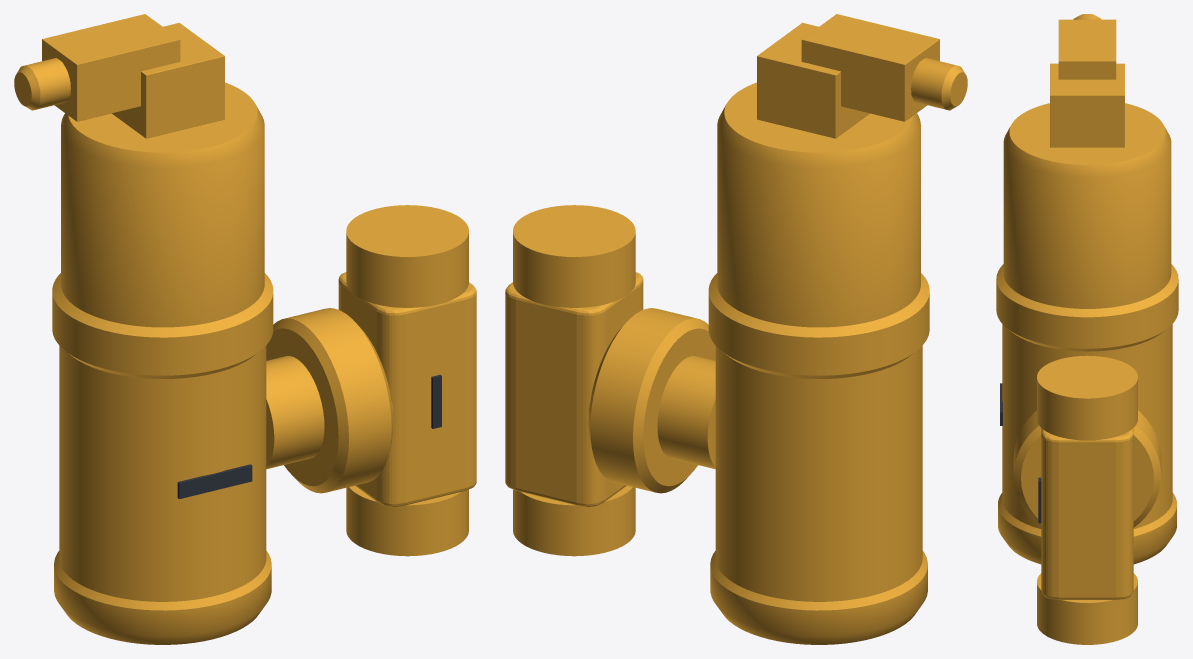
File: separator_rfw0070.glb
3 views of the same model, side by side, from view 1: azimuth 30°, elevation 25°; view 2: azimuth 150°, elevation 25°; view 3: azimuth 270°, elevation 25° (orthographic). The views are drawn at different scales.
Parts seen in each view (by area): view 1: корпус низ, блок, гайка горловины, устье, колено, прилив, устье.001, горловина, колпачок, надпись; view 2: корпус низ, блок, гайка горловины, устье, колено, прилив, устье.001, горловина, колпачок; view 3: корпус низ, блок, устье, прилив, гайка горловины, устье.001, колено.
Part boxes in pixels (x1,y1,x2,y2): корпус низ: (52,82,273,644); блок: (338,272,476,506); гайка горловины: (266,308,393,493); устье: (346,205,468,307); колено: (42,14,180,121); прилив: (112,23,224,138); устье.001: (346,485,468,556); горловина: (266,356,393,469); колпачок: (14,58,70,110); надпись: (177,464,252,498); корпус низ: (708,82,929,644); блок: (505,272,643,506); гайка горловины: (588,308,715,493); устье: (513,205,635,307); колено: (801,14,939,121); прилив: (757,23,869,138); устье.001: (513,485,635,556); горловина: (588,356,715,469); колпачок: (911,58,967,110); корпус низ: (996,103,1178,564); блок: (1041,428,1133,599); устье: (1037,355,1137,440); прилив: (1050,63,1124,147); гайка горловины: (1013,410,1161,527); устье.001: (1037,573,1137,644); колено: (1058,19,1116,79).
Size of the model in its own units: 0.144 by 0.187 by 0.063.
